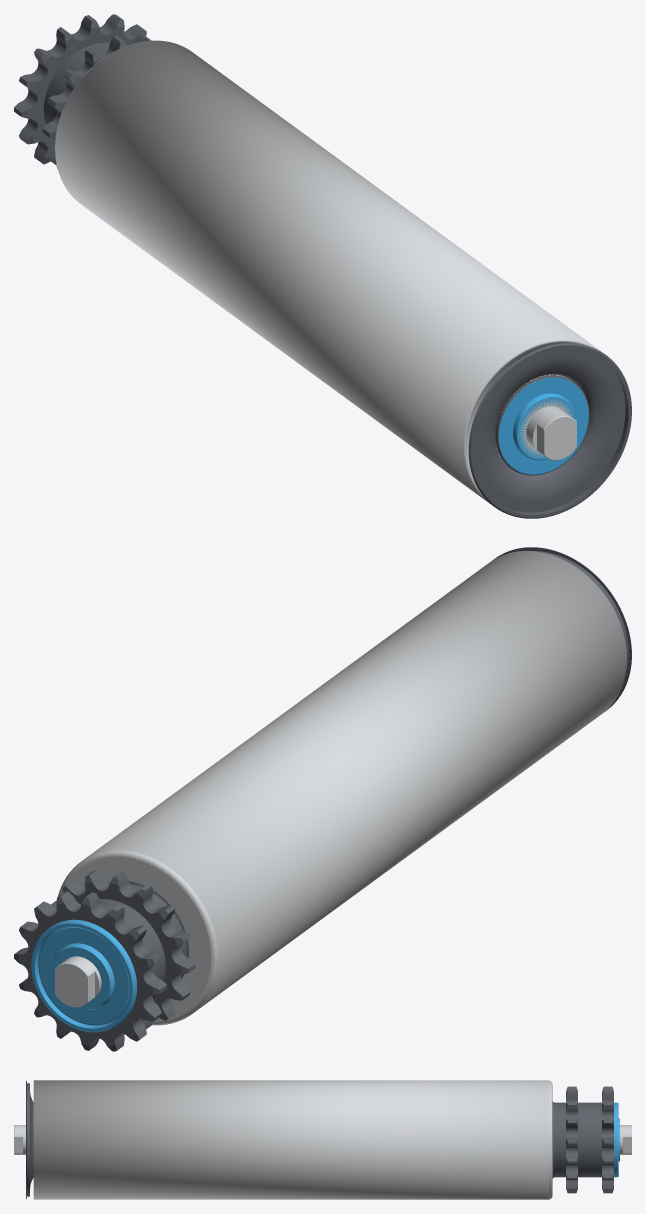
File: MOLTECH_3800_LIGHT_AR_v8.glb
The picture shows the model from 3 angles, top to bottom: view 1: azimuth 30°, elevation 25°; view 2: azimuth 150°, elevation 25°; view 3: azimuth 270°, elevation 25°; orthographic projection. The views are drawn at different scales.
Visible parts, largest first — view 1: Palast__zart_belso_test, Fekete__eredeti_lanckerekek, rear_blue_original_faces, silver_original; view 2: Palast__zart_belso_test, Fekete__eredeti_lanckerekek, silver_original, Kek__frikcios_tarcsa; view 3: Palast__zart_belso_test, Fekete__eredeti_lanckerekek, silver_original, Kek__frikcios_tarcsa.
Part boxes in pixels (left/top/right/bottom): Palast__zart_belso_test: left=55, top=40, right=602, bottom=503; Fekete__eredeti_lanckerekek: left=14, top=14, right=631, bottom=518; rear_blue_original_faces: left=498, top=377, right=588, bottom=474; silver_original: left=55, top=50, right=576, bottom=465; Palast__zart_belso_test: left=58, top=551, right=626, bottom=1025; Fekete__eredeti_lanckerekek: left=14, top=547, right=631, bottom=1051; silver_original: left=55, top=850, right=218, bottom=1024; Kek__frikcios_tarcsa: left=31, top=919, right=137, bottom=1032; Palast__zart_belso_test: left=33, top=1080, right=549, bottom=1199; Fekete__eredeti_lanckerekek: left=26, top=1081, right=613, bottom=1198; silver_original: left=14, top=1081, right=631, bottom=1198; Kek__frikcios_tarcsa: left=614, top=1102, right=619, bottom=1177.
Size of the model in its own units: 0.0579 by 0.0579 by 0.3.
